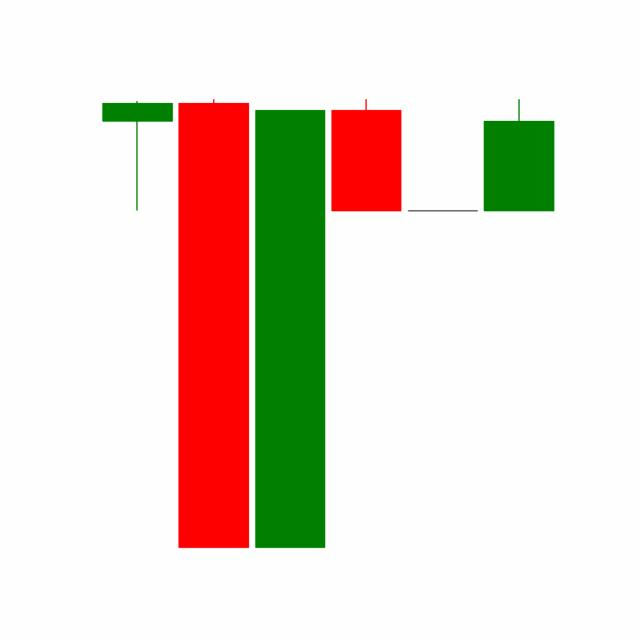Hammer: (403, 209, 481, 211)
